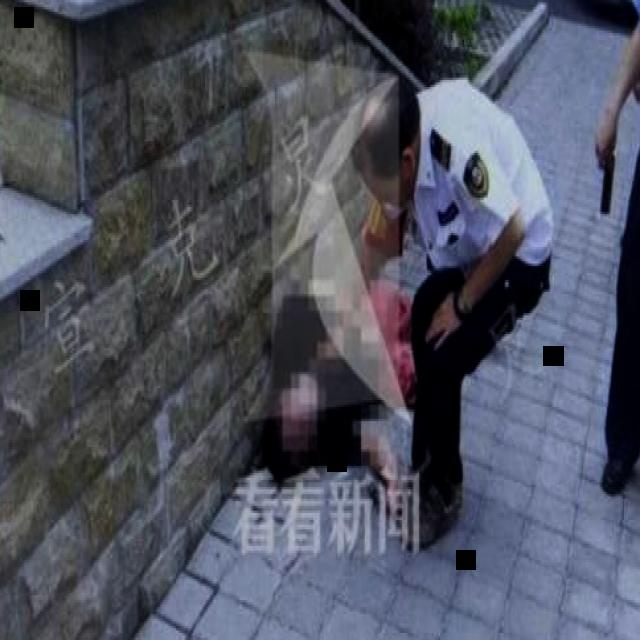Fall-Detected: (248, 235, 462, 511)
